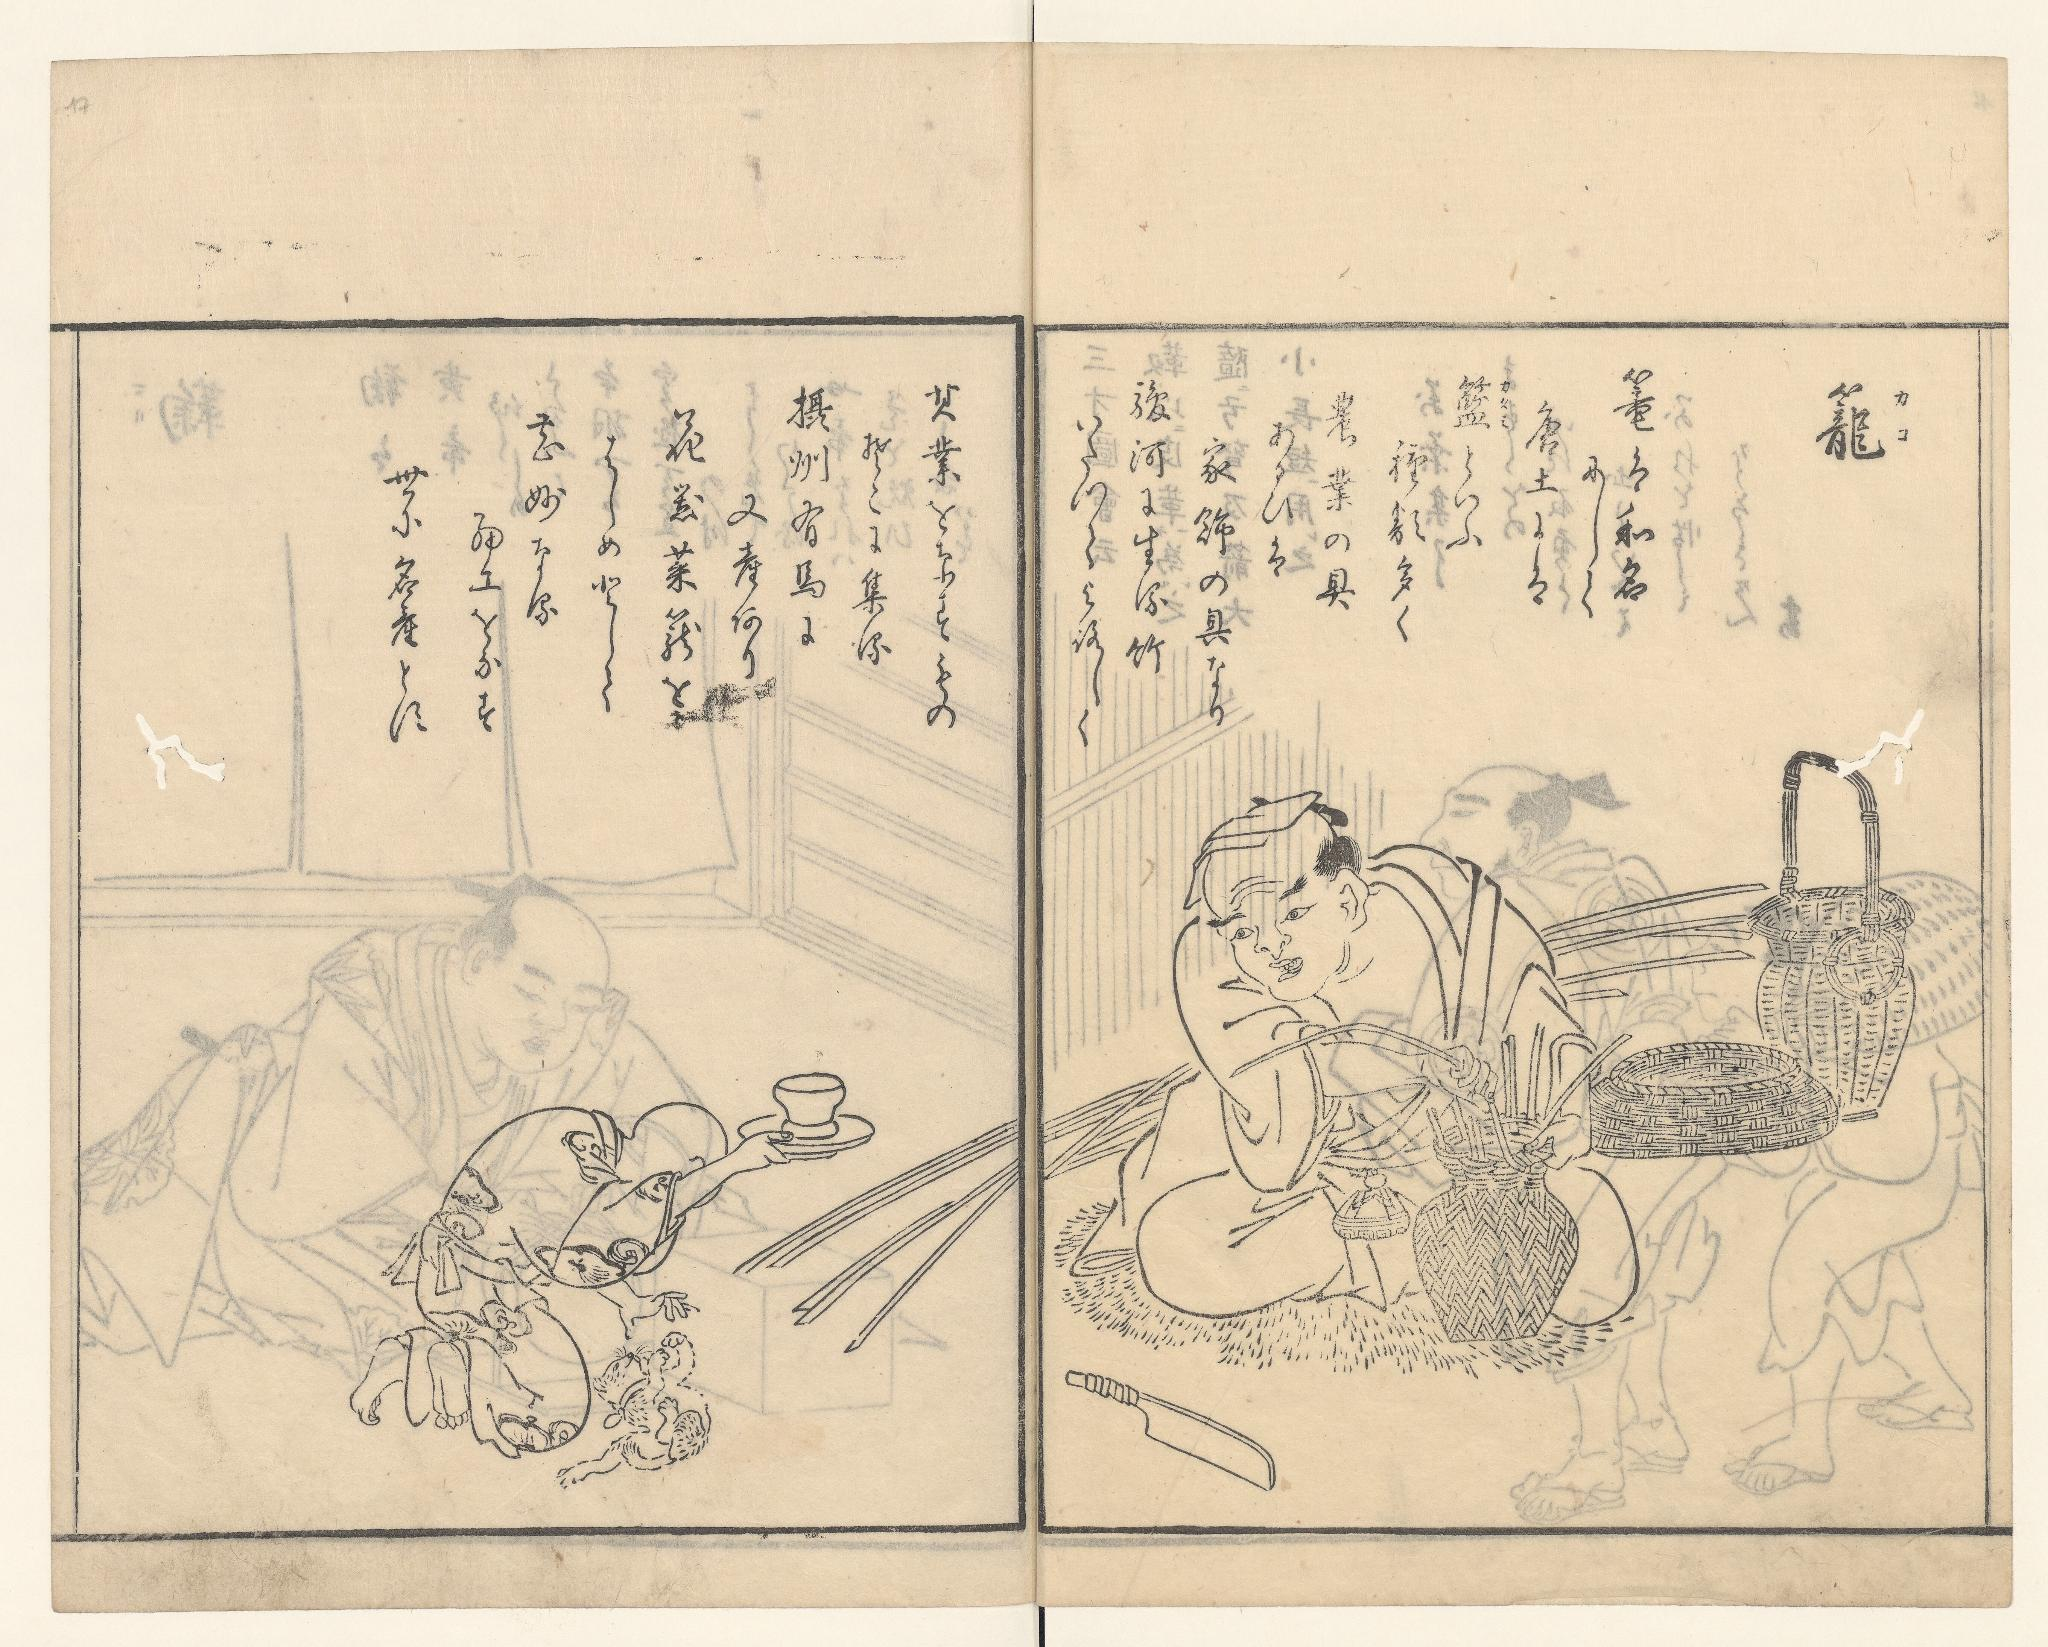MainZone-Character: (1806, 375, 1920, 467), (1445, 370, 1515, 432)
MainZone-Ruby: (1888, 383, 1917, 445), (1494, 375, 1514, 435)
